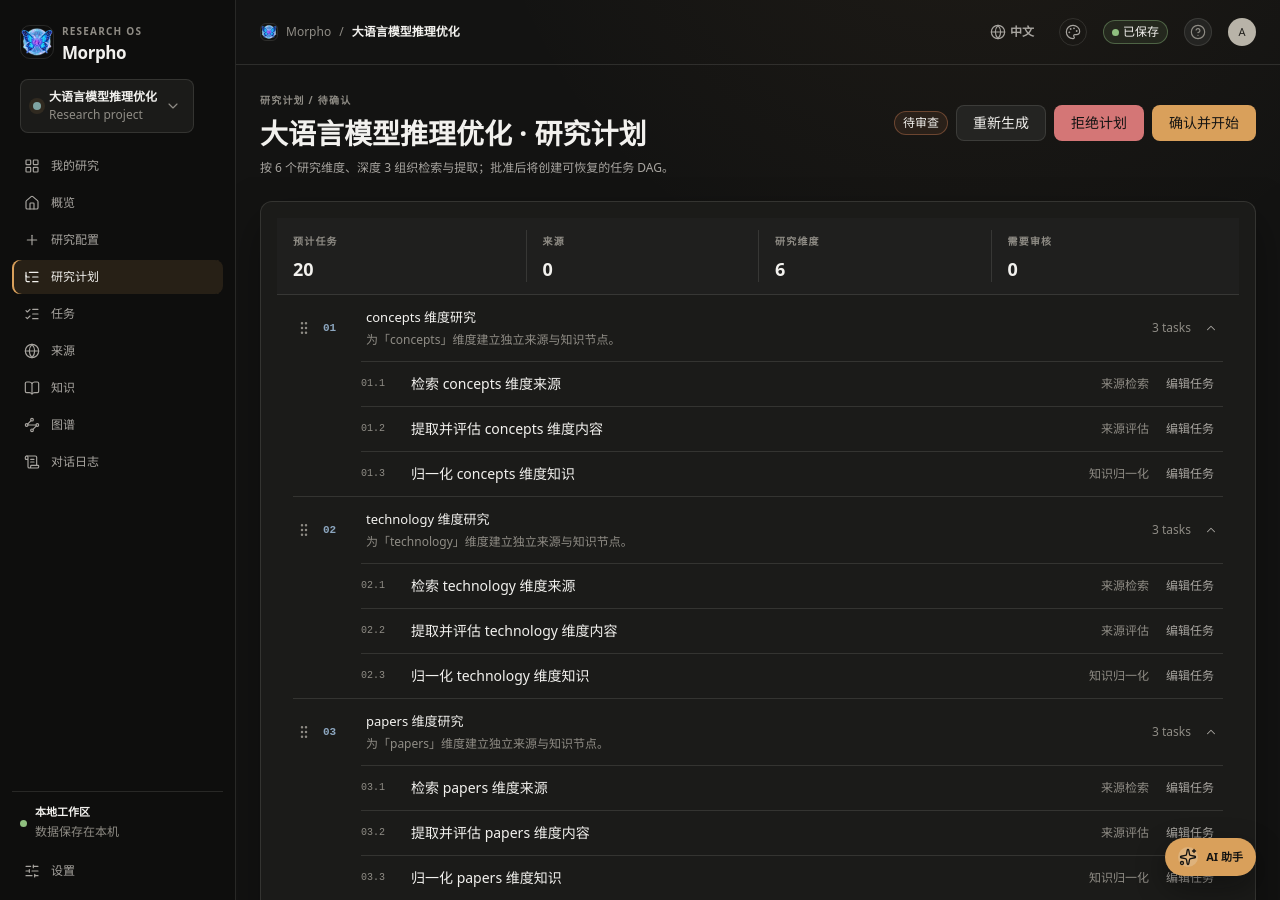
Test: plan review → run flow › approves the draft plan, starts the run, and shows task states
The image size is (1280, 900).
Click the button with aria-label "批准计划".
click(1204, 123)  # box [1152,105,1256,141]
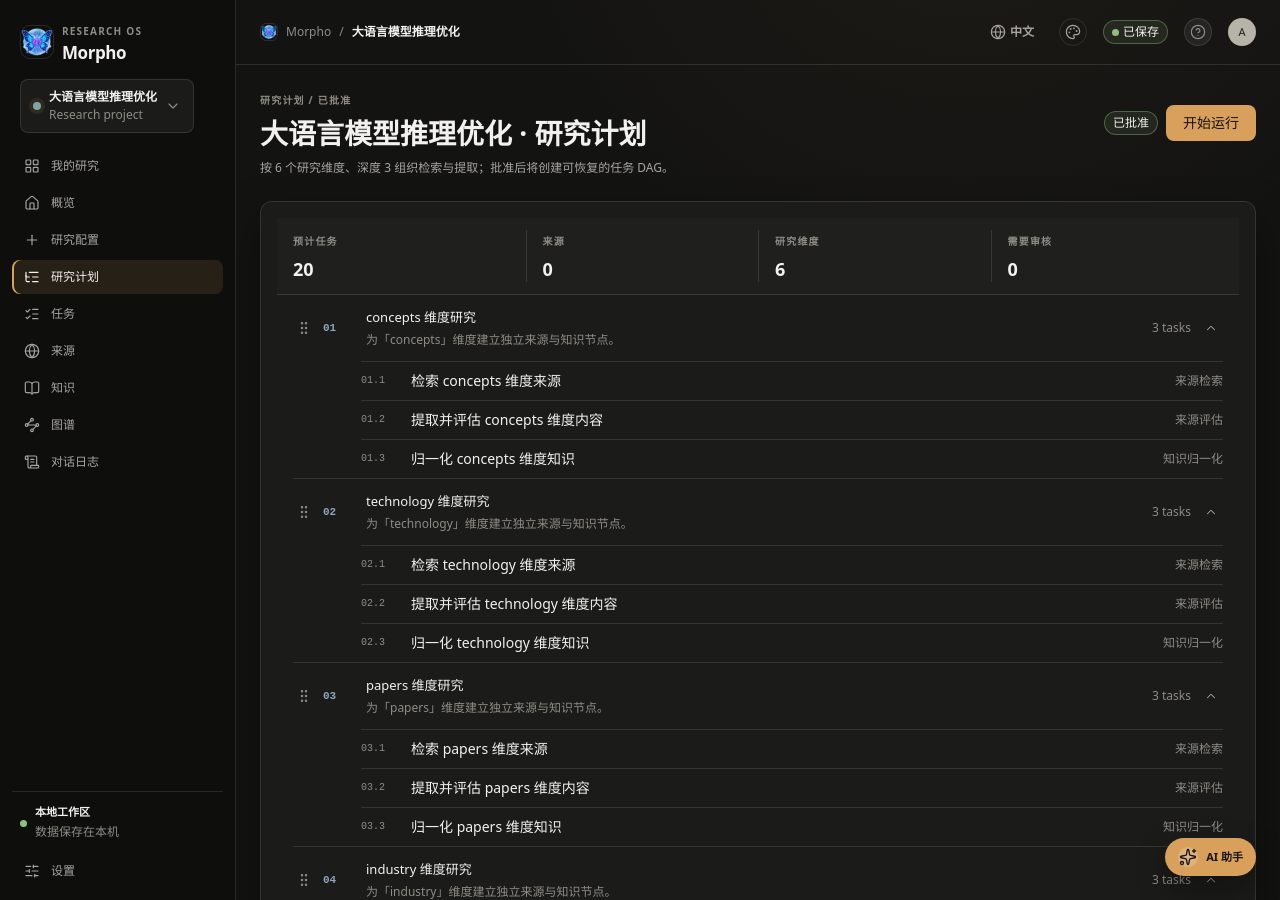
Result: the text "已批准" is shown at [1104,111,1158,135]
Result: the button "开始运行" is shown
Click the button "开始运行".
click(1211, 123)  # box [1166,105,1256,141]
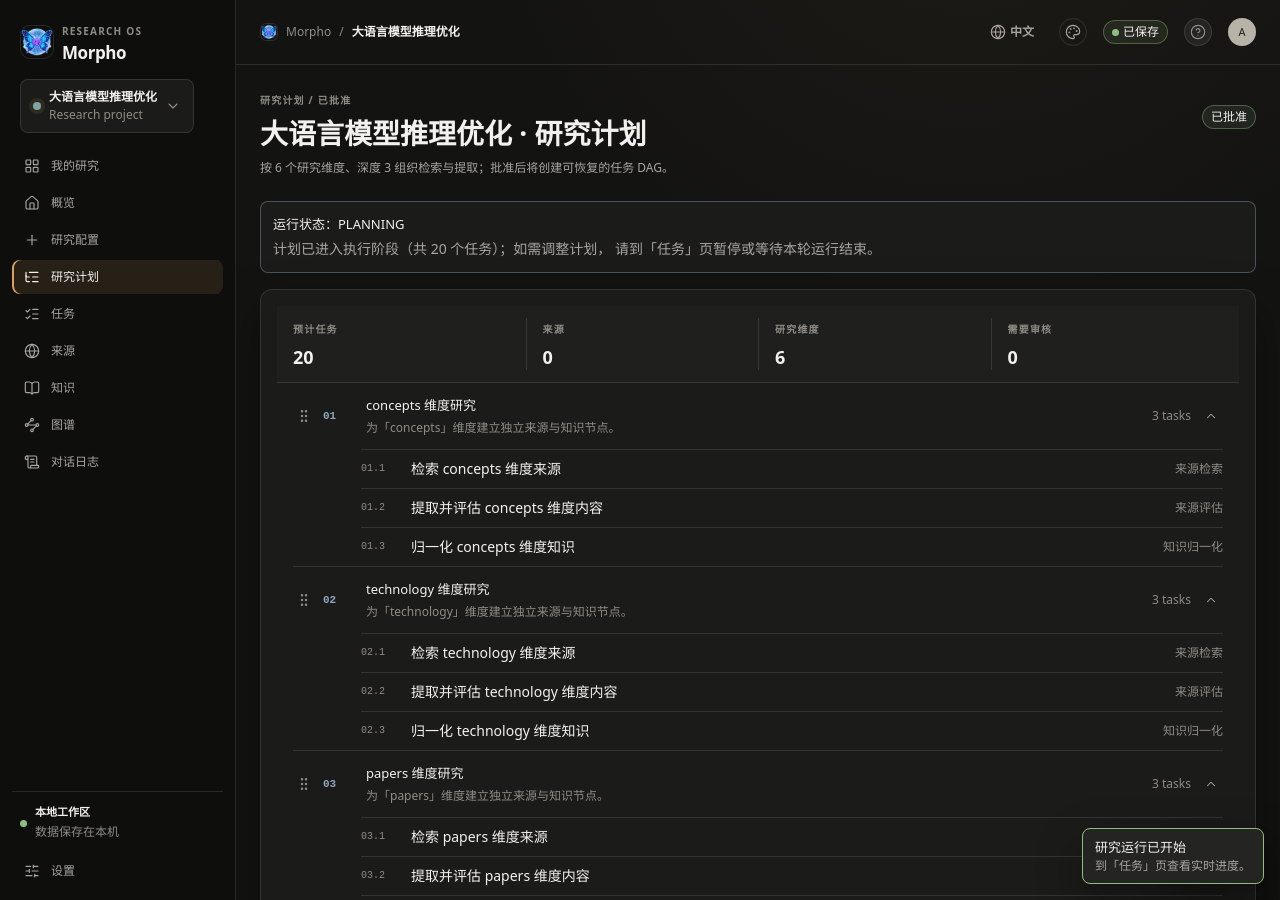
Result: the text "运行状态：PLANNING" is shown at [273,215,404,233]
Click the button "任务".
click(118, 314)  # box [12,297,223,331]
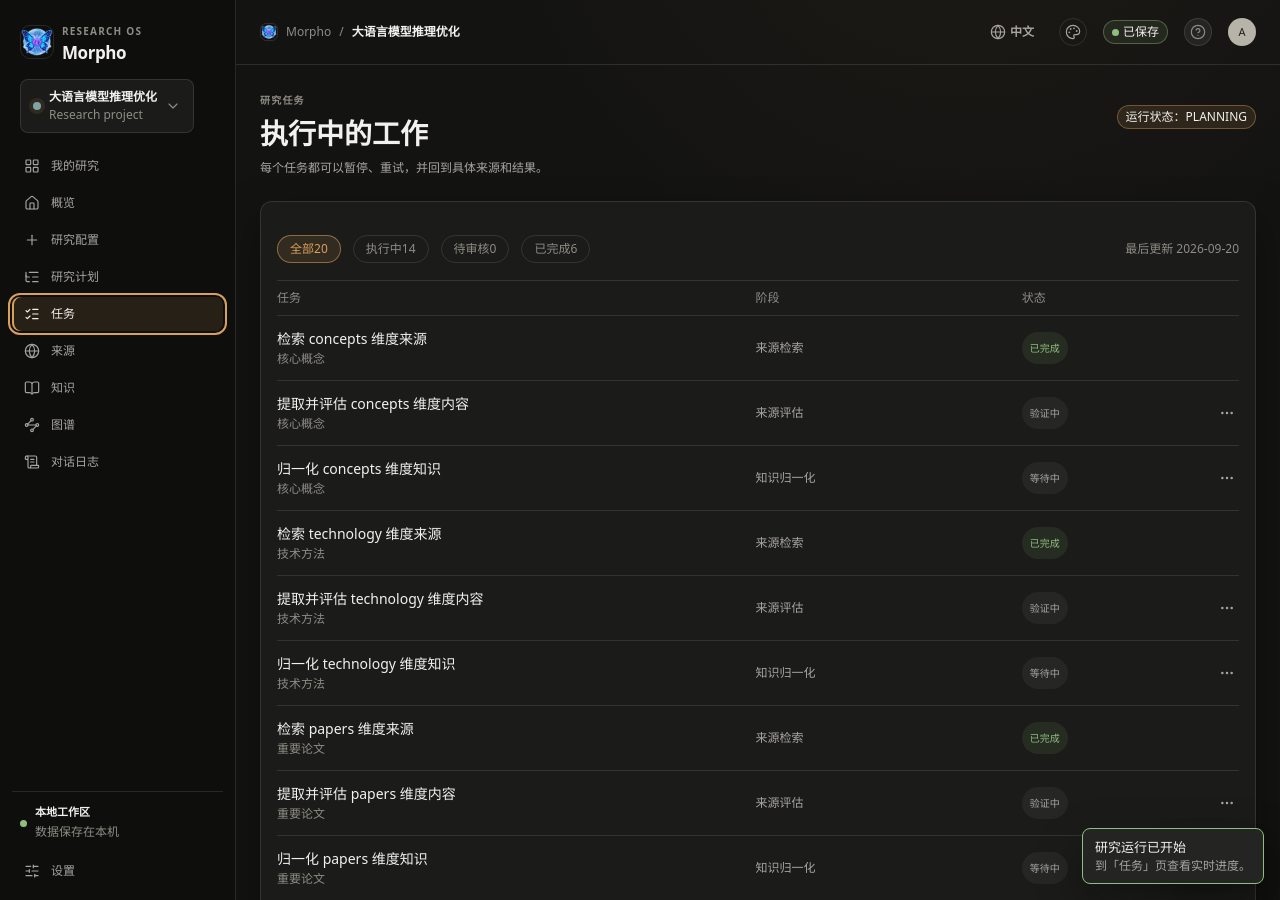
Result: the heading "执行中的工作" is shown at [260,114,428,152]
Result: the list item with test id "task-row" showing "检索 concepts 维度来源 核心概念 来源检索 已完成" is shown at [277,316,1239,381]
